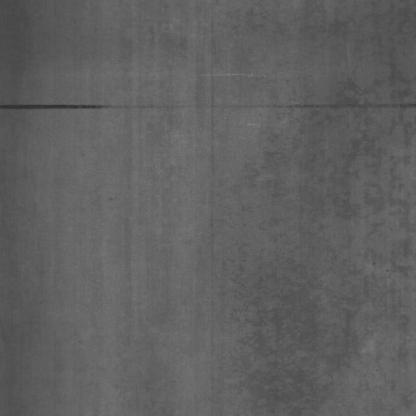crease: (7, 87, 408, 141)
